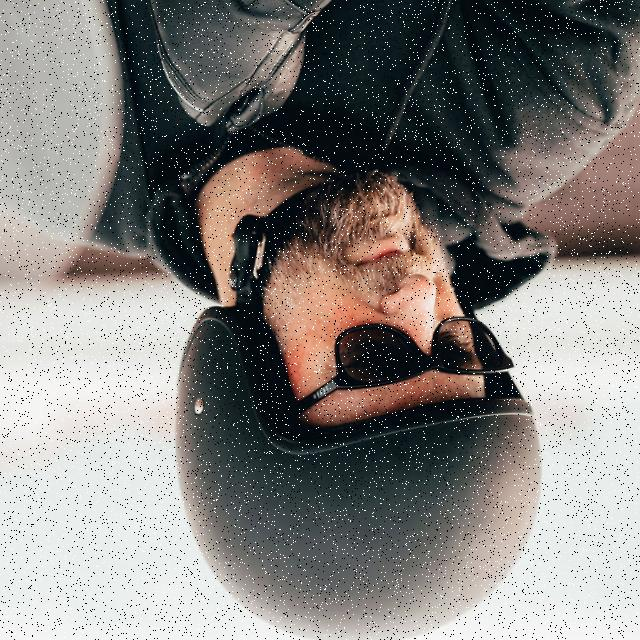Helmet: (176, 306, 540, 640)
